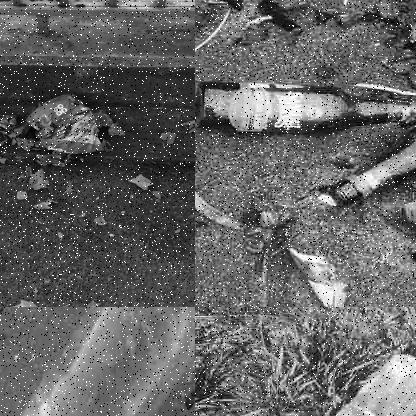glass: (196, 80, 415, 139), (321, 129, 416, 219)
plastic: (0, 307, 194, 415), (301, 348, 415, 415), (21, 90, 108, 161)
